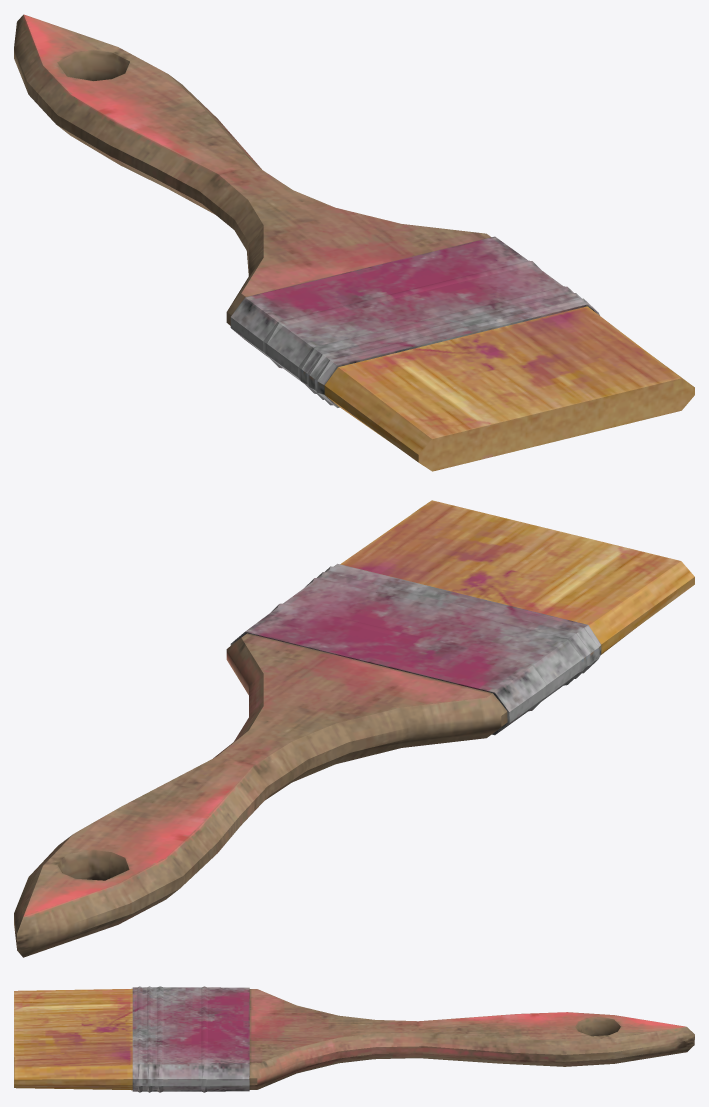
Rendered from SM_Brush_5.glb.
3 views of the same model, one above another, from view 1: azimuth 30°, elevation 25°; view 2: azimuth 150°, elevation 25°; view 3: azimuth 270°, elevation 25° (orthographic). The views are drawn at different scales.
Parts seen in each view (by area): view 1: SM_Brush_5; view 2: SM_Brush_5; view 3: SM_Brush_5.
Boxes of the visible parts, x1,y1,x2,y2 form: SM_Brush_5: [14, 14, 694, 471]; SM_Brush_5: [14, 500, 694, 957]; SM_Brush_5: [14, 986, 694, 1092].
Size of the model in its own units: 0.0961 by 0.0147 by 0.3195.
Materials: 1 (1 with a texture image).
